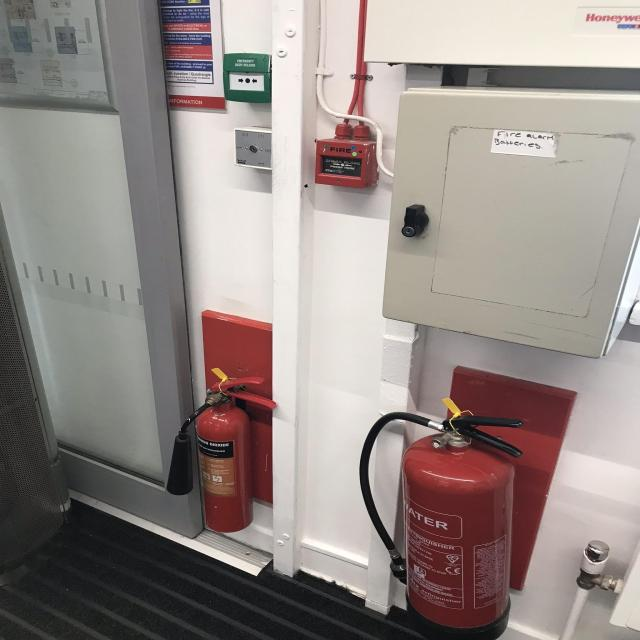fire_extinguisher: (352, 408, 530, 640), (165, 372, 280, 536)
